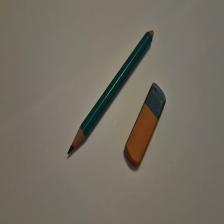eraser: (125, 83, 167, 167)
pencil: (68, 30, 155, 156)
